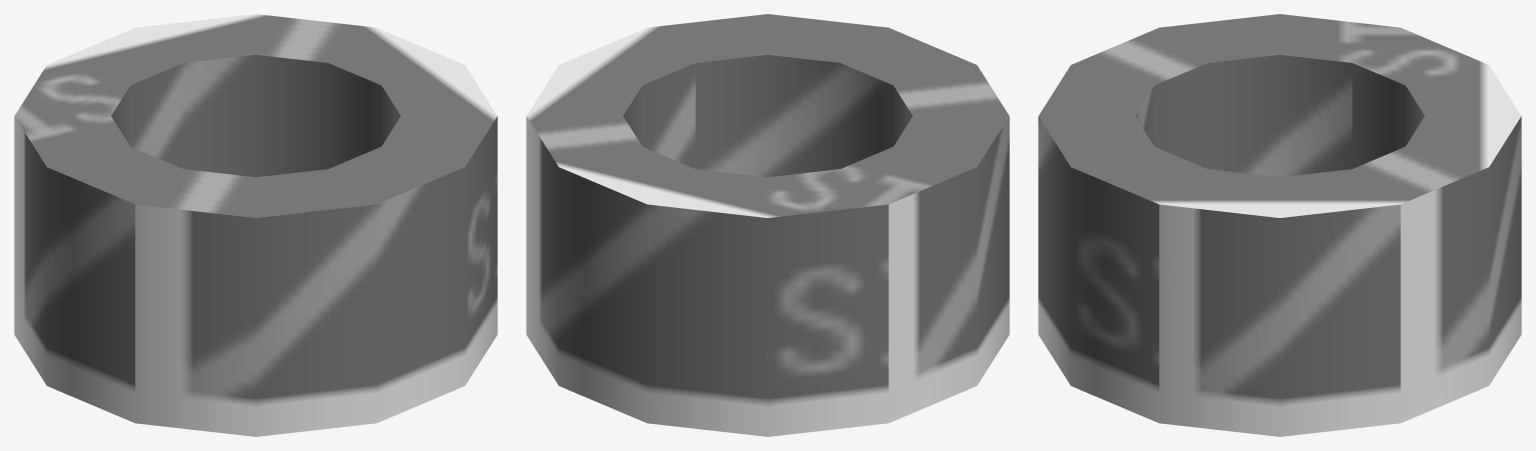
The model's file is FSP-G6-Barrel.obj.
3 views of the same model, side by side, from view 1: azimuth 30°, elevation 25°; view 2: azimuth 150°, elevation 25°; view 3: azimuth 270°, elevation 25° (orthographic).
Visible parts, largest first — view 1: FSP-G6-Barrel; view 2: FSP-G6-Barrel; view 3: FSP-G6-Barrel.
Boxes of the visible parts, x1,y1,x2,y2 form: FSP-G6-Barrel: (14,14,497,436); FSP-G6-Barrel: (526,14,1009,436); FSP-G6-Barrel: (1038,14,1521,436).
Bounding box in the file's own units: 0.1 × 0.05 × 0.1.
